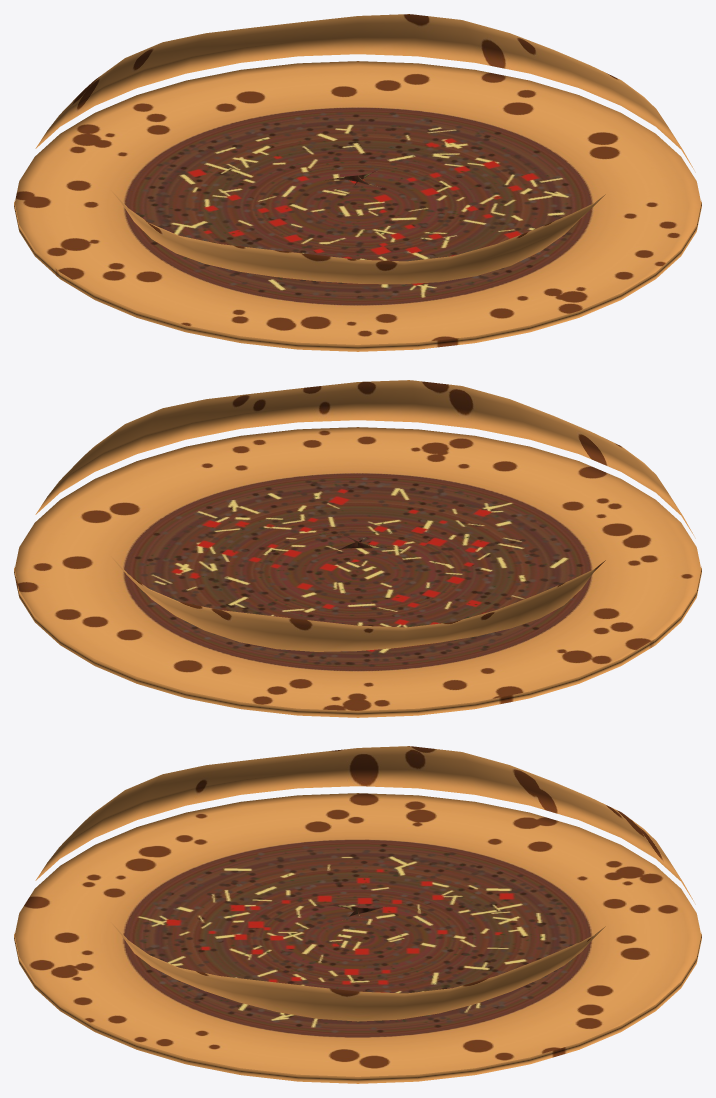
File: esfirra.glb
The picture shows the model from 3 angles, top to bottom: view 1: azimuth 30°, elevation 25°; view 2: azimuth 150°, elevation 25°; view 3: azimuth 270°, elevation 25°; orthographic projection.
Visible parts, largest first — view 1: EsfirraAberta; view 2: EsfirraAberta; view 3: EsfirraAberta.
Part boxes in pixels (bbox=[...]): EsfirraAberta: bbox=[14, 14, 701, 351]; EsfirraAberta: bbox=[14, 380, 701, 717]; EsfirraAberta: bbox=[14, 746, 701, 1083].
Size of the model in its own units: 2.7 by 0.3084 by 2.7.
Materials: 1 (1 with a texture image).
